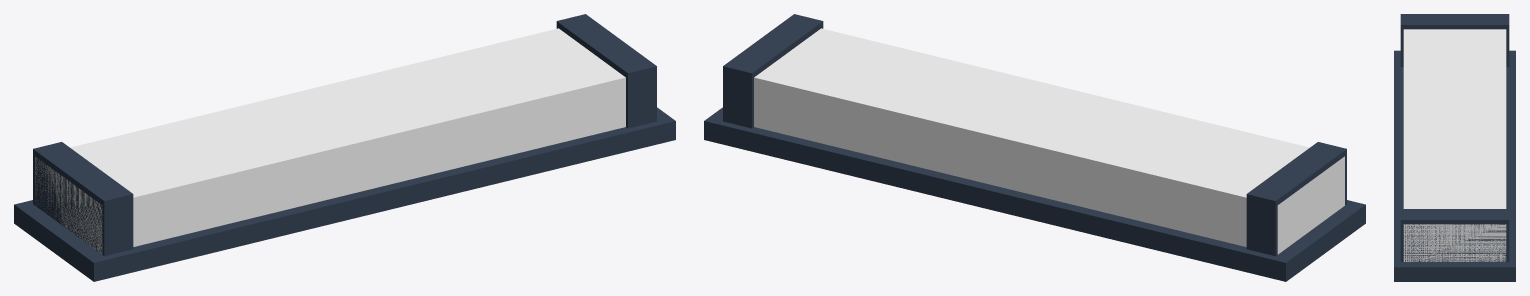
The model's file is road.glb.
3 views of the same model, side by side, from view 1: azimuth 30°, elevation 25°; view 2: azimuth 150°, elevation 25°; view 3: azimuth 270°, elevation 25° (orthographic). The views are drawn at different scales.
Visible parts, largest first — view 1: RoadBody, RoadAccents; view 2: RoadBody, RoadAccents; view 3: RoadBody, RoadAccents.
Boxes of the visible parts, <box> form: RoadBody: <box>35,28,625,254</box>; RoadAccents: <box>14,14,675,281</box>; RoadBody: <box>754,28,1344,254</box>; RoadAccents: <box>704,14,1365,281</box>; RoadBody: <box>1403,29,1506,261</box>; RoadAccents: <box>1394,14,1515,281</box>.
Size of the model in its own units: 1.6 by 0.195 by 0.38.
